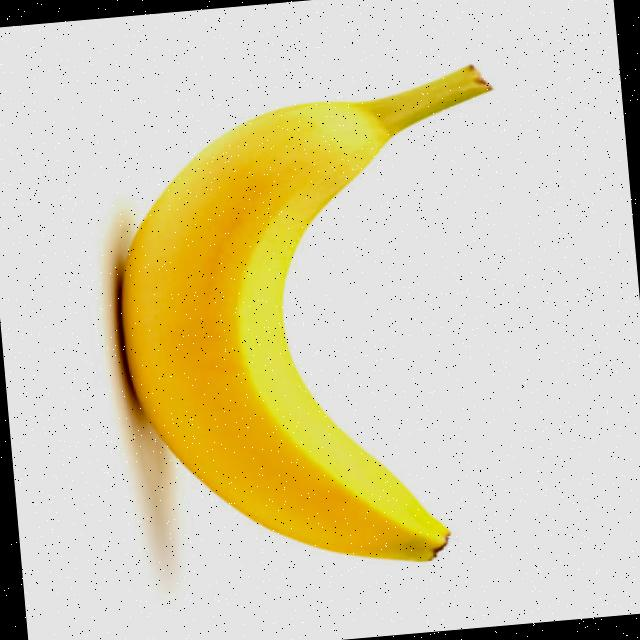Ripe: (94, 63, 539, 588)
